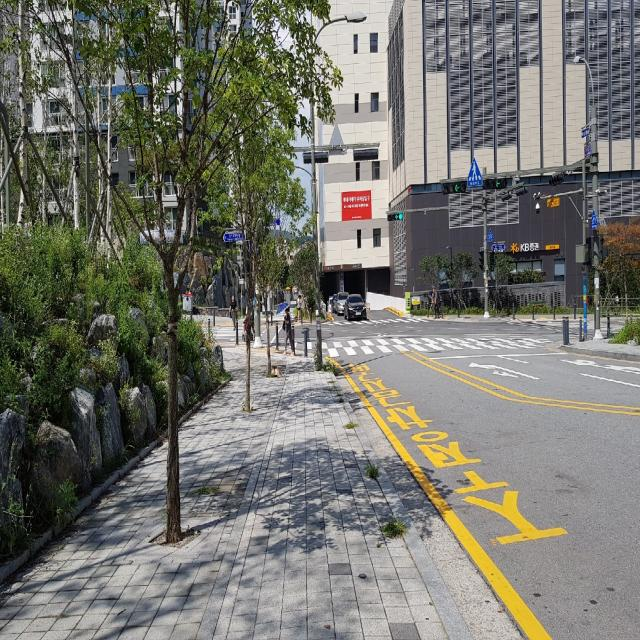횡단보도: (203, 327, 255, 341)
